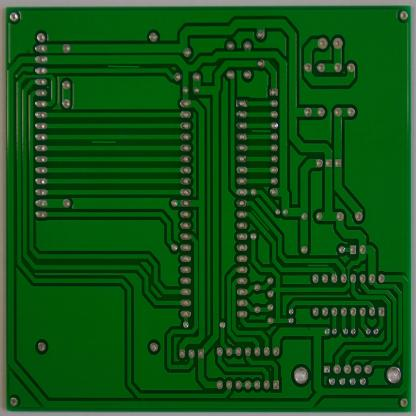spurious_copper: (250, 208, 270, 231), (104, 60, 140, 70), (89, 136, 116, 146), (305, 260, 331, 270), (249, 126, 273, 136)
